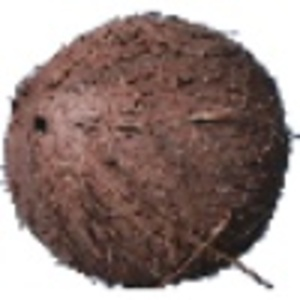coco: (1, 13, 300, 290)
